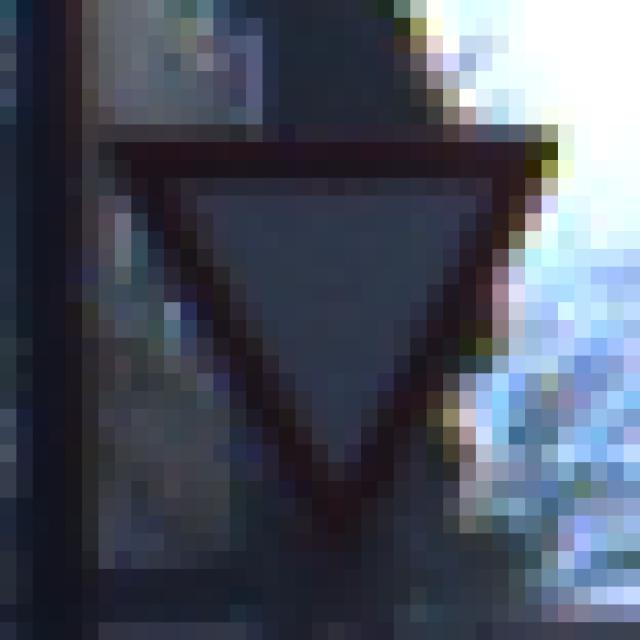Give Way: (83, 90, 559, 552)
